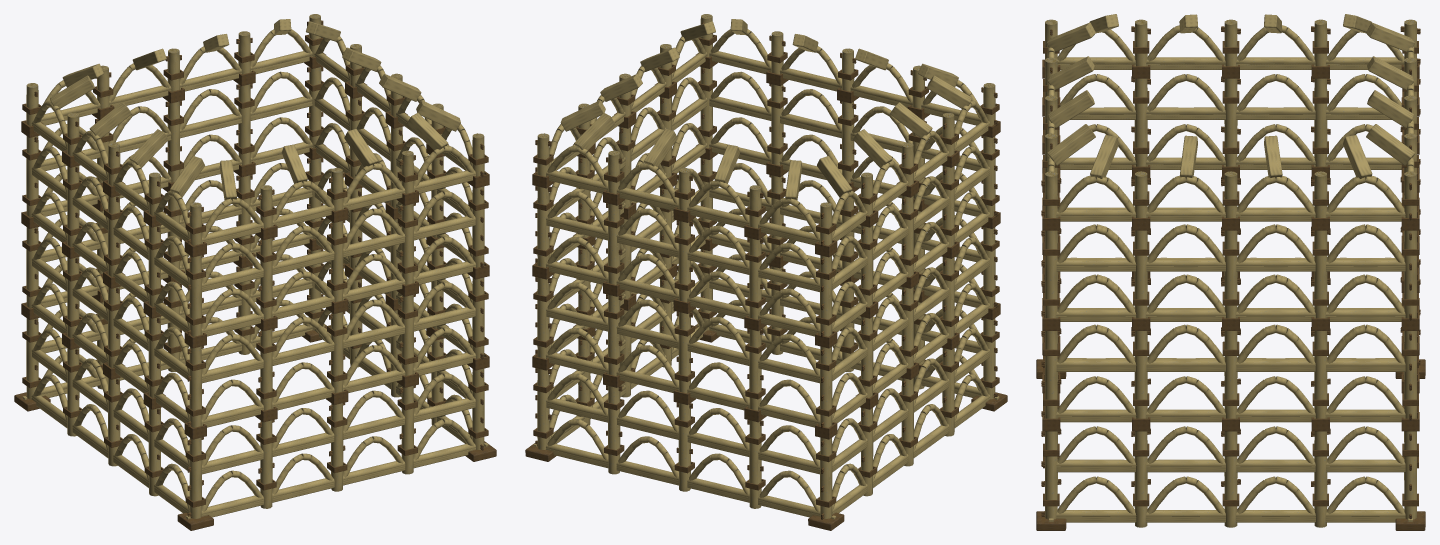
3 renders of one model, left to right at view 1: azimuth 30°, elevation 25°; view 2: azimuth 150°, elevation 25°; view 3: azimuth 270°, elevation 25°, orthographic. The views are drawn at different scales.
Visible parts, largest first — view 1: Tier 0 side 0 post 1, Tier 0 side 0 post 2, Tier 0 side 0 post 3, Tier 0 side 0 post 0, Tier 2 side 0 post 0, Tier 1 side 0 post 0, Tier 2 side 0 post 1, Tier 1 side 0 post 1, Tier 2 side 2 post 1, Tier 1 side 0 post 2, Tier 2 side 0 post 2, Tier 2 side 0 post 3 (+27 smaller); view 2: Tier 0 side 2 post 3, Tier 0 side 2 post 2, Tier 0 side 2 post 1, Tier 0 side 3 post 0, Tier 2 side 3 post 0, Tier 1 side 3 post 0, Tier 1 side 2 post 3, Tier 2 side 2 post 0, Tier 2 side 2 post 3, Tier 0 side 2 post 0, Tier 1 side 2 post 0, Tier 2 side 0 post 3 (+27 smaller); view 3: Tier 0 side 1 post 2, Tier 0 side 1 post 3, Tier 0 side 1 post 1, Tier 2 side 1 post 2, Tier 2 side 1 post 3, Tier 2 side 3 post 2, Tier 2 side 1 post 1, Tier 2 side 3 post 1, Tier 2 side 3 post 3, Tier 1 side 1 post 2, Tier 2 side 1 post 0, Tier 1 side 1 post 3 (+84 smaller).
Part boxes in pixels (box(x1,y1,x2,y2)): Tier 0 side 0 post 1: box(260, 420, 272, 508); Tier 0 side 0 post 2: box(331, 403, 343, 491); Tier 0 side 0 post 3: box(401, 386, 413, 474); Tier 0 side 0 post 0: box(189, 437, 201, 518); Tier 2 side 0 post 0: box(189, 255, 201, 336); Tier 1 side 0 post 0: box(189, 346, 201, 427); Tier 2 side 0 post 1: box(260, 238, 272, 319); Tier 1 side 0 post 1: box(260, 329, 272, 410); Tier 2 side 2 post 1: box(238, 84, 250, 165); Tier 1 side 0 post 2: box(331, 312, 343, 393); Tier 2 side 0 post 2: box(331, 221, 343, 302); Tier 2 side 0 post 3: box(401, 203, 413, 284); Tier 0 side 2 post 3: box(749, 420, 761, 508); Tier 0 side 2 post 2: box(678, 403, 690, 491); Tier 0 side 2 post 1: box(608, 386, 620, 474); Tier 0 side 3 post 0: box(820, 437, 832, 518); Tier 2 side 3 post 0: box(820, 255, 832, 336); Tier 1 side 3 post 0: box(820, 346, 832, 427); Tier 1 side 2 post 3: box(749, 329, 761, 410); Tier 2 side 2 post 0: box(537, 186, 549, 267); Tier 2 side 2 post 3: box(749, 238, 761, 319); Tier 0 side 2 post 0: box(537, 368, 549, 449); Tier 1 side 2 post 0: box(537, 277, 549, 358); Tier 2 side 0 post 3: box(771, 84, 783, 165); Tier 0 side 1 post 2: box(1224, 431, 1237, 527); Tier 0 side 1 post 3: box(1314, 431, 1327, 527); Tier 0 side 1 post 1: box(1134, 431, 1147, 527); Tier 2 side 1 post 2: box(1224, 230, 1237, 318); Tier 2 side 1 post 3: box(1314, 230, 1327, 318); Tier 2 side 3 post 2: box(1224, 78, 1237, 166); Tier 2 side 1 post 1: box(1134, 230, 1147, 318); Tier 2 side 3 post 1: box(1314, 78, 1327, 166); Tier 2 side 3 post 3: box(1134, 78, 1147, 166); Tier 1 side 1 post 2: box(1224, 331, 1237, 418); Tier 2 side 1 post 0: box(1045, 230, 1057, 318); Tier 1 side 1 post 3: box(1314, 331, 1327, 418).
Size of the model in its own units: 1.95 by 2.07 by 1.95.
Materials: 2 (2 with a texture image).
